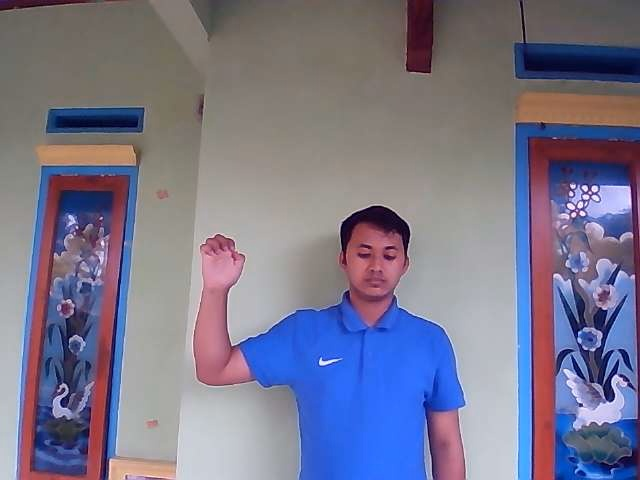E: (198, 233, 246, 293)
